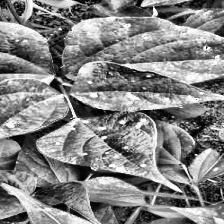Bean Rust: (59, 16, 224, 81), (68, 62, 224, 112), (41, 116, 158, 173), (0, 23, 55, 102), (0, 80, 67, 142)
